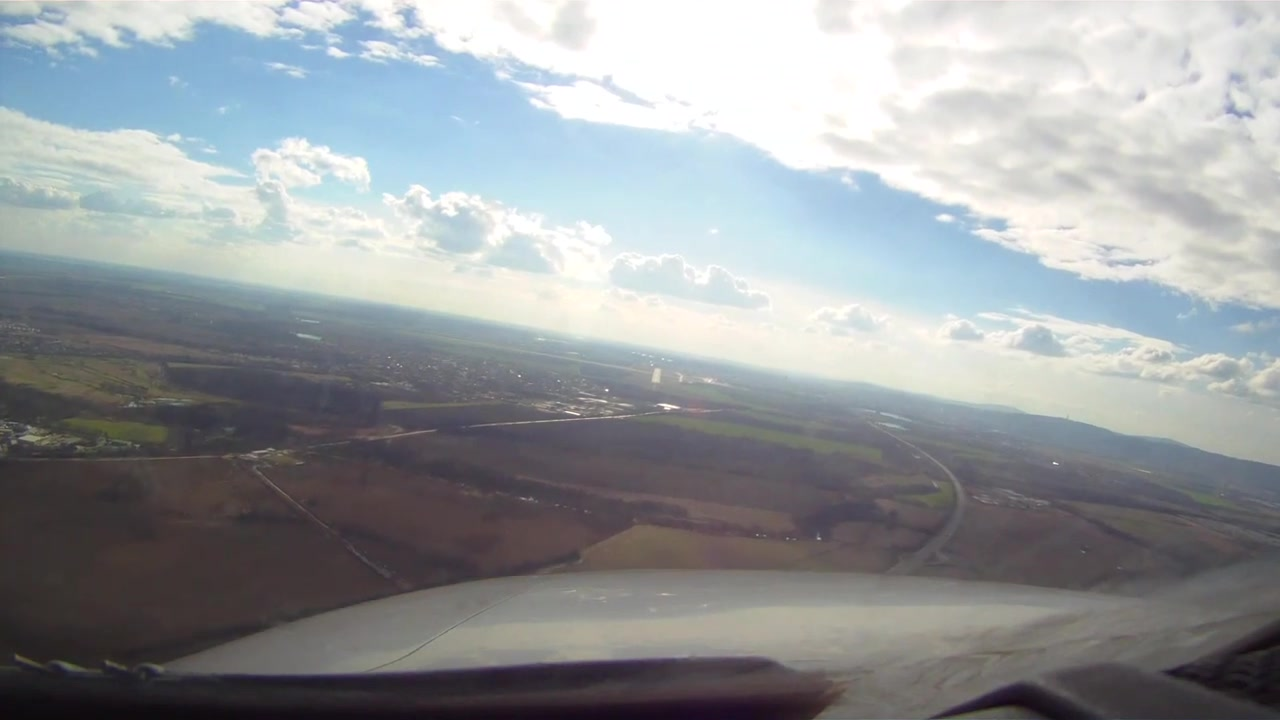runway: (648, 366, 665, 384)
